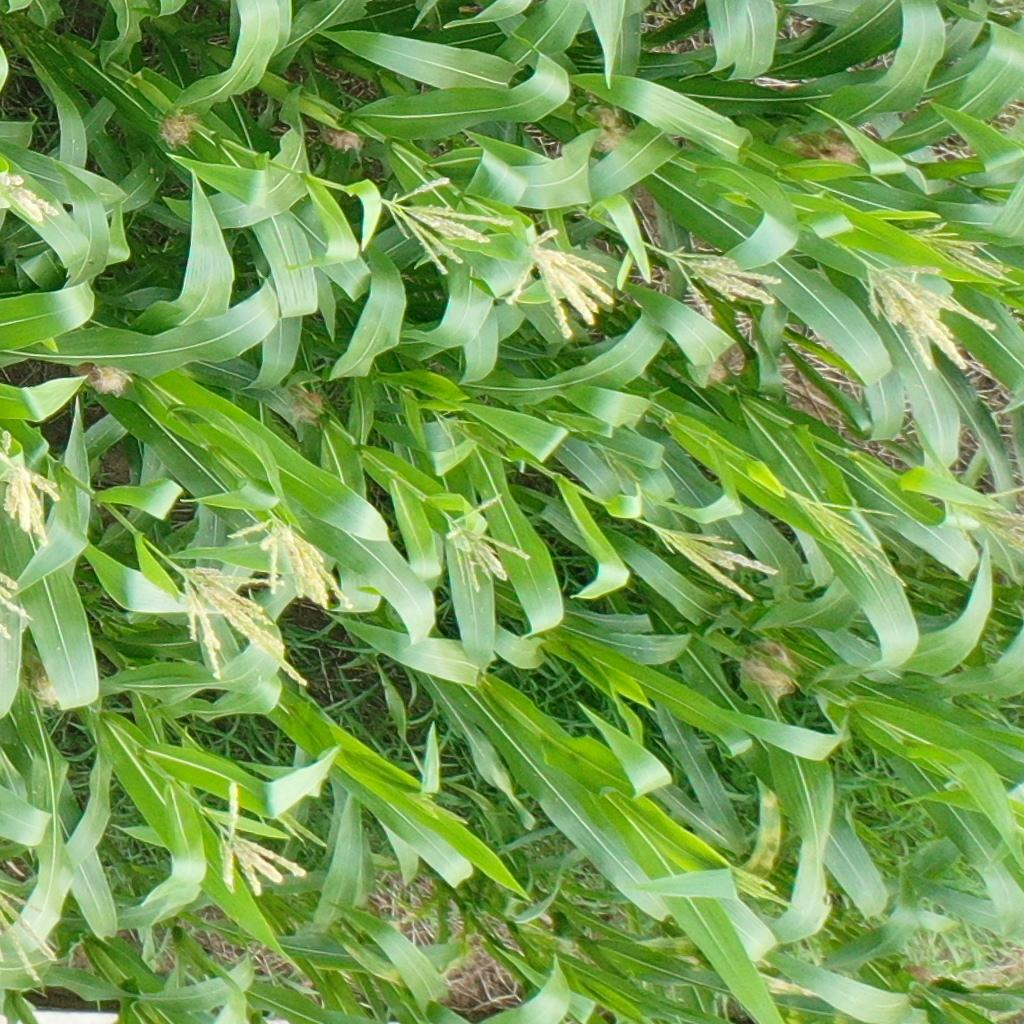Tassel: (174, 562, 308, 687), (854, 259, 999, 372), (206, 783, 329, 900), (381, 177, 513, 277), (788, 488, 910, 593), (643, 517, 781, 608), (502, 229, 615, 338), (228, 516, 354, 613), (443, 495, 534, 595), (664, 246, 783, 319), (911, 219, 1021, 288), (1, 430, 60, 549), (938, 485, 1024, 566), (1, 889, 55, 990), (443, 415, 513, 465), (1, 170, 63, 225), (726, 861, 794, 910), (406, 787, 467, 828), (1, 571, 34, 642)
